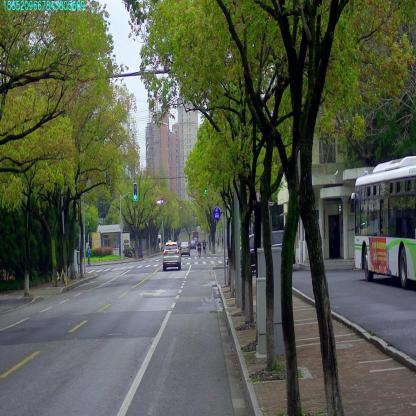traffic-light: (204, 178, 208, 196), (133, 183, 137, 200)
